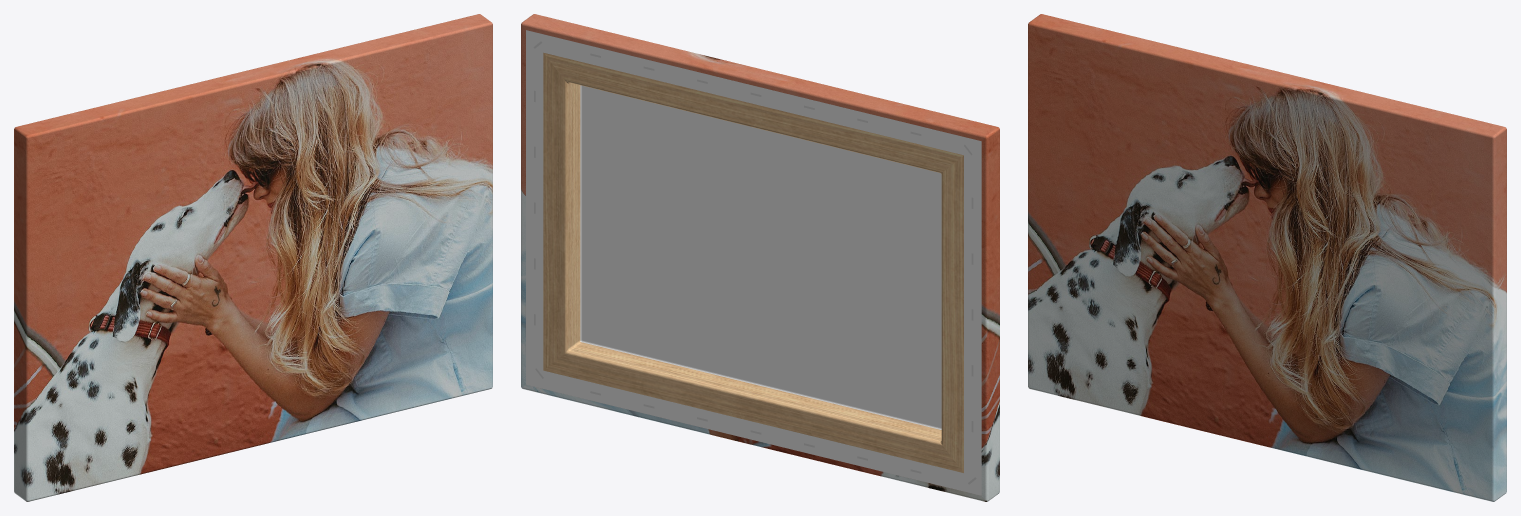
File: canvas.glb
3 views of the same model, side by side, from view 1: azimuth 30°, elevation 25°; view 2: azimuth 150°, elevation 25°; view 3: azimuth 330°, elevation 25° (orthographic).
Visible parts, largest first — view 1: Product; view 2: Product, Staples; view 3: Product.
Boxes of the visible parts, <box> form: Product: <box>14,14,492,501</box>; Product: <box>521,14,999,501</box>; Staples: <box>533,41,976,484</box>; Product: <box>1028,14,1506,501</box>.
Bounding box in the file's own units: 0.4 × 0.3 × 0.0202.
4 materials, 2 textured.
